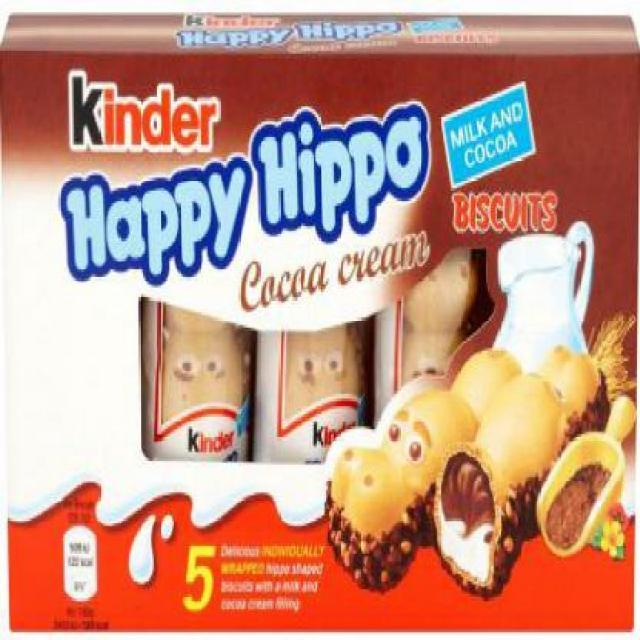Merendine packaged: (1, 4, 638, 636)
